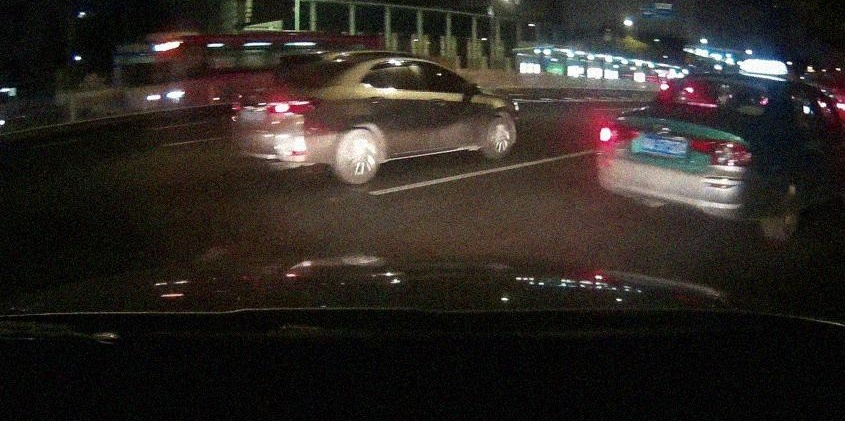L_light: (599, 123, 641, 143), (230, 101, 241, 111)
R_light: (689, 138, 755, 166), (265, 97, 321, 114)
T_light: (686, 100, 718, 109), (293, 58, 310, 63)
night-left: (596, 73, 786, 240)
night-no: (230, 53, 361, 182)
